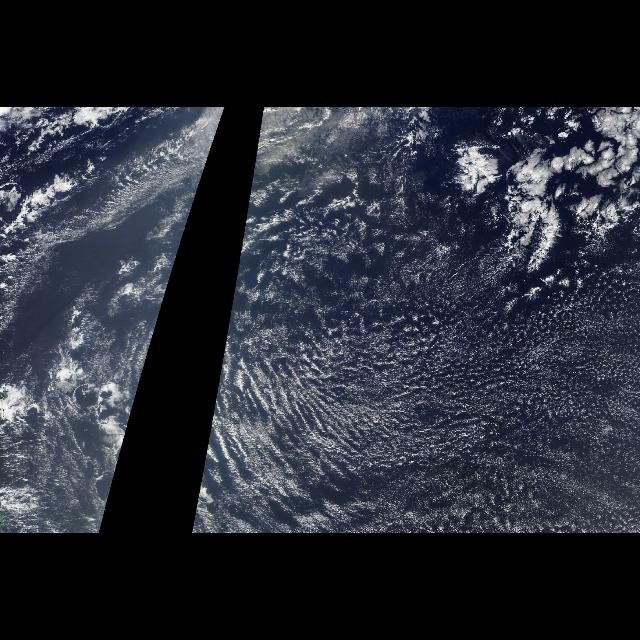Flower: (444, 107, 640, 265)
Sugar: (191, 267, 639, 533), (258, 161, 430, 267), (106, 272, 174, 510)
